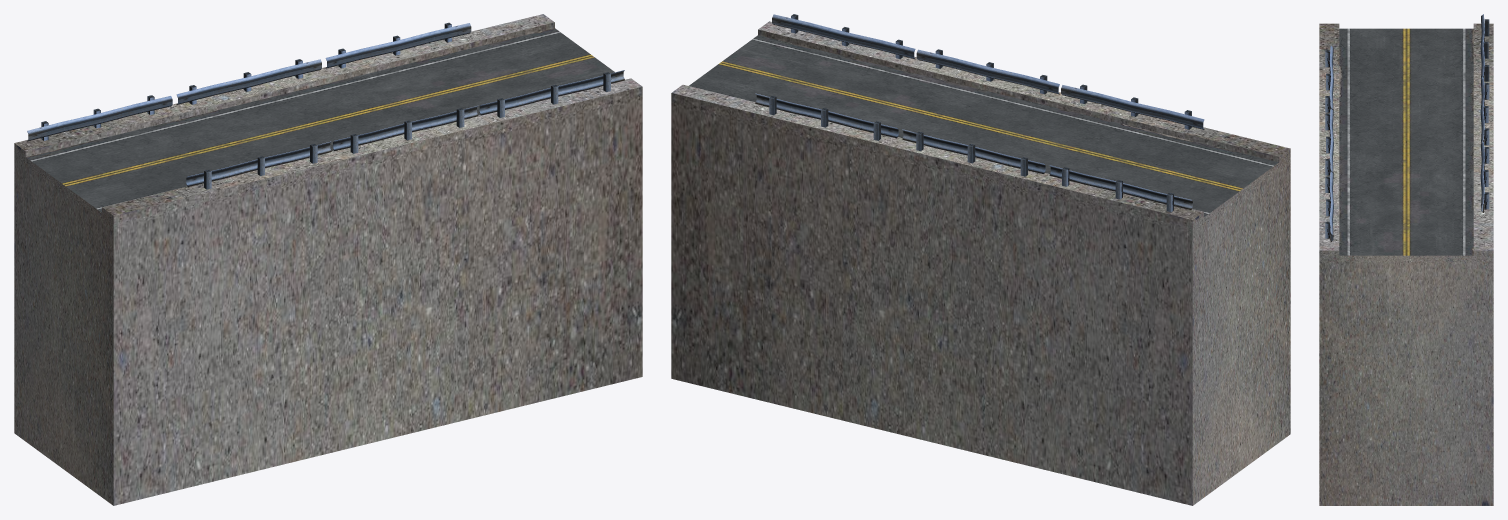
File: straight-medium.fbx
3 renders of one model, left to right at view 1: azimuth 30°, elevation 25°; view 2: azimuth 150°, elevation 25°; view 3: azimuth 270°, elevation 25°, orthographic. The views are drawn at different scales.
Parts seen in each view (by area): view 1: Plane.012; view 2: Plane.012; view 3: Plane.012.
Part boxes in pixels (bbox=[...]): Plane.012: bbox=[14, 14, 642, 505]; Plane.012: bbox=[671, 14, 1290, 505]; Plane.012: bbox=[1319, 14, 1493, 505].
Bounding box in the file's own units: 4000 × 2218 × 1300.
